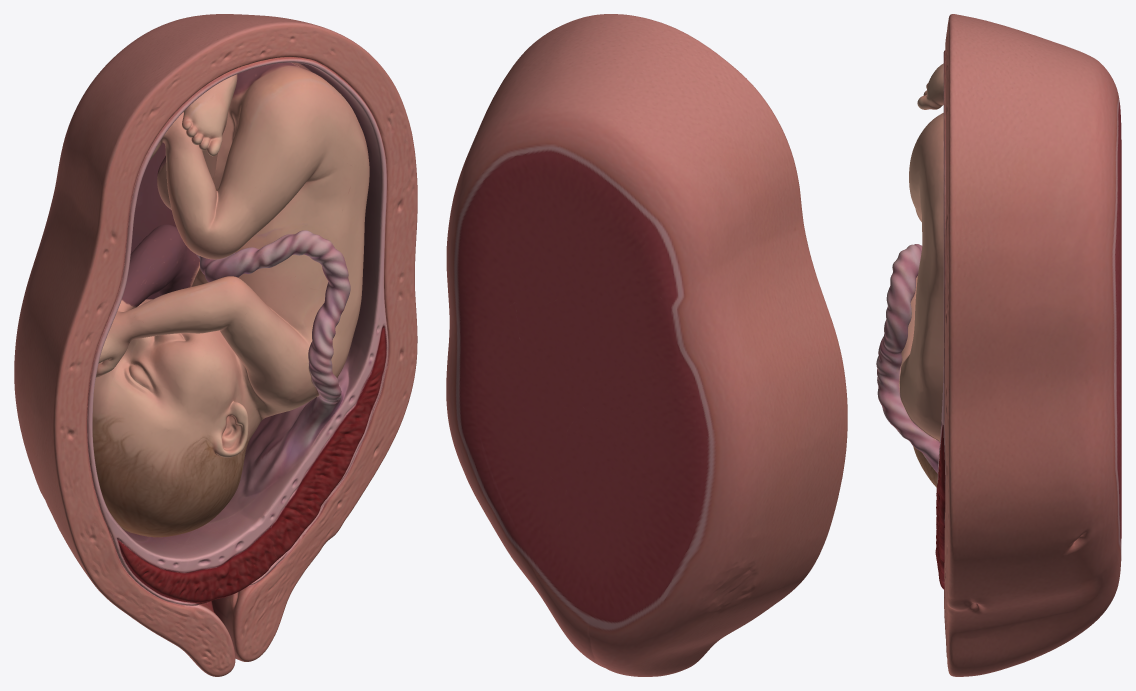
File: IMPLANTACIONBAJA-v2.glb
The picture shows the model from 3 angles, left to right: view 1: azimuth 30°, elevation 25°; view 2: azimuth 150°, elevation 25°; view 3: azimuth 270°, elevation 25°; orthographic projection. The views are drawn at different scales.
Size of the model in its own units: 1.13 by 1.9 by 0.6461.
1 material, 1 textured.
